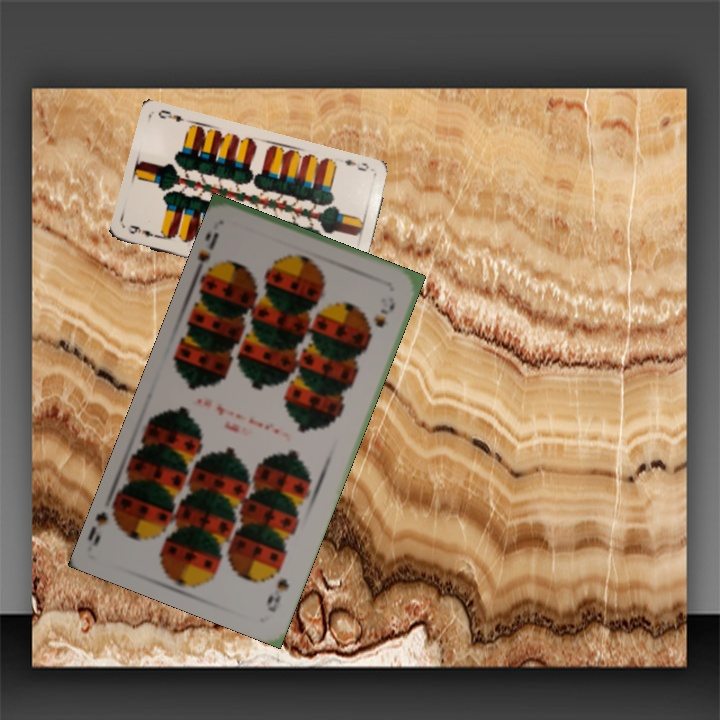E9: (123, 221, 163, 241), (340, 155, 371, 174)
S9: (197, 228, 223, 280), (262, 574, 292, 615)
